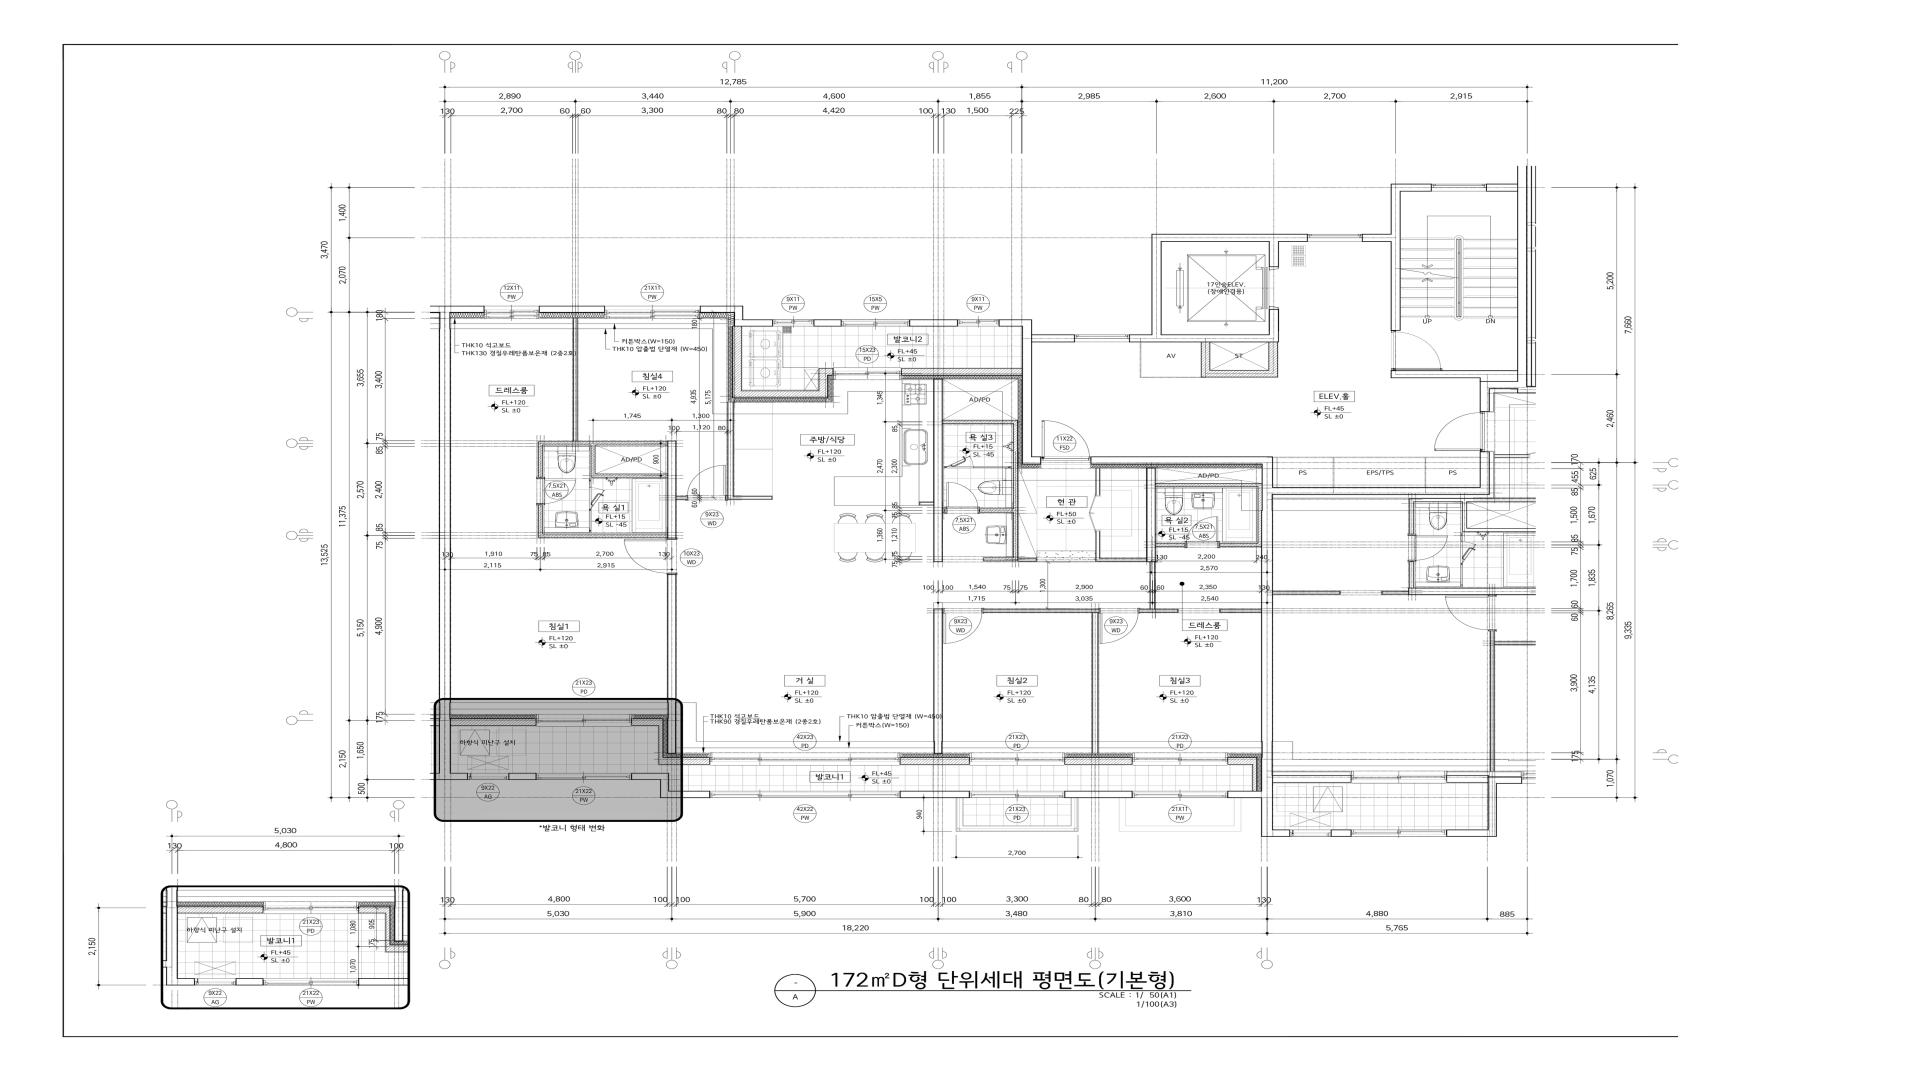door: (1391, 331, 1443, 371), (624, 538, 676, 575), (1042, 421, 1091, 460), (1098, 608, 1139, 644), (943, 608, 984, 644), (686, 465, 727, 500), (945, 481, 980, 514), (1185, 516, 1220, 549), (537, 477, 576, 505), (589, 479, 605, 510), (944, 455, 973, 468), (1178, 609, 1220, 613)
wall: (439, 306, 451, 781), (1261, 456, 1273, 798), (1391, 371, 1527, 389), (1516, 183, 1527, 371), (1273, 487, 1490, 495), (934, 378, 943, 562), (667, 575, 676, 754), (1022, 319, 1033, 464), (1391, 183, 1400, 331), (1091, 456, 1262, 464), (934, 608, 943, 754), (1151, 233, 1308, 241), (1129, 335, 1279, 343), (1151, 241, 1162, 335), (901, 368, 1022, 376), (1092, 613, 1098, 754), (667, 440, 676, 538), (1146, 468, 1155, 562), (727, 402, 735, 500), (1013, 419, 1018, 562), (741, 390, 828, 398), (451, 719, 537, 727), (732, 326, 741, 398), (572, 318, 578, 442), (984, 608, 1098, 613), (1064, 757, 1133, 765), (901, 757, 969, 765), (538, 534, 667, 538), (538, 442, 667, 446), (899, 791, 969, 798), (1064, 791, 1133, 798), (1211, 371, 1278, 377), (539, 306, 605, 313), (1155, 483, 1262, 487), (1480, 451, 1490, 487), (910, 319, 957, 327), (663, 757, 709, 765), (1033, 335, 1075, 343), (819, 368, 833, 390), (1201, 343, 1211, 377), (596, 473, 667, 477), (1269, 309, 1279, 335), (943, 419, 1013, 423), (1273, 456, 1480, 458), (669, 791, 709, 798), (1269, 241, 1279, 266), (1269, 343, 1278, 371), (735, 319, 773, 326), (1150, 562, 1155, 609), (632, 719, 663, 727), (632, 773, 669, 779), (1258, 487, 1262, 547), (1486, 183, 1516, 191), (1400, 183, 1431, 191), (1480, 389, 1490, 411), (1228, 757, 1257, 765), (1362, 233, 1391, 241), (700, 306, 735, 313), (814, 319, 841, 327), (1228, 791, 1261, 798), (451, 306, 484, 313), (1220, 608, 1261, 613), (1139, 608, 1178, 613), (658, 727, 663, 765), (1100, 558, 1146, 562), (509, 773, 537, 779), (1000, 319, 1022, 327), (659, 779, 669, 798), (538, 446, 543, 477), (591, 446, 596, 477), (538, 505, 543, 534), (1220, 543, 1258, 547), (735, 496, 773, 500), (980, 509, 1013, 513), (735, 306, 744, 319), (1096, 531, 1100, 562), (1155, 543, 1185, 547), (984, 558, 1013, 562), (451, 773, 468, 779), (1096, 468, 1100, 496), (1253, 765, 1257, 791), (1139, 343, 1142, 377), (1018, 558, 1038, 562), (1142, 376, 1201, 377), (1033, 456, 1040, 464), (919, 501, 934, 505), (973, 467, 1011, 468), (676, 496, 687, 500), (1333, 458, 1335, 487), (1424, 458, 1425, 487), (589, 510, 591, 533), (943, 509, 945, 513)
window: (709, 753, 899, 765), (605, 306, 700, 319), (537, 713, 632, 727), (709, 791, 899, 798), (969, 753, 1064, 765), (1133, 753, 1228, 765), (833, 368, 901, 380), (484, 306, 539, 319), (537, 773, 632, 779), (1133, 791, 1228, 798), (969, 791, 1064, 798), (841, 319, 910, 327), (1432, 183, 1486, 191), (1308, 233, 1362, 241), (1075, 335, 1129, 342), (957, 319, 998, 326), (773, 319, 814, 326), (468, 773, 509, 779)
